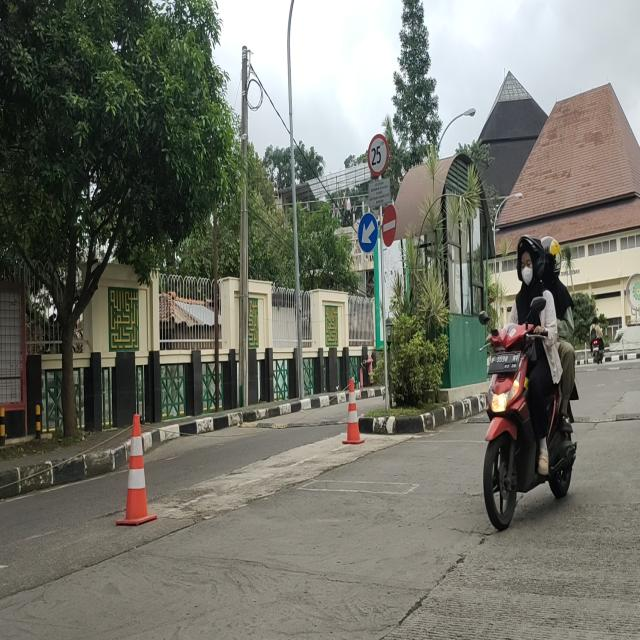helmet: (512, 237, 541, 280), (543, 236, 563, 280)
